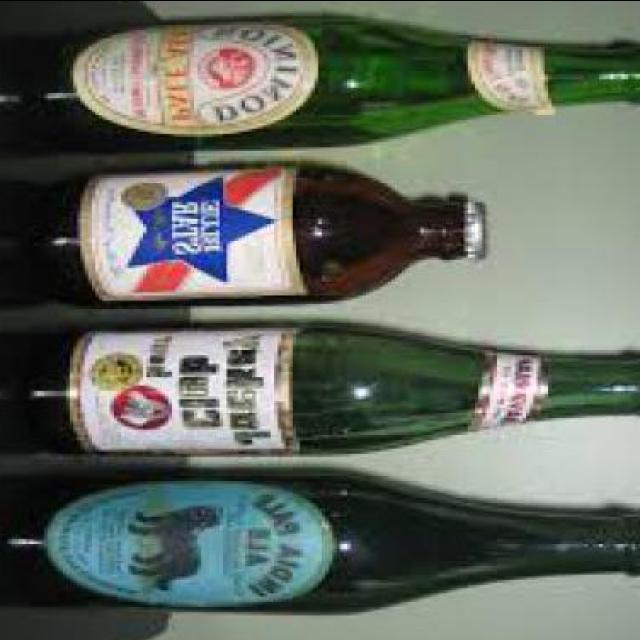kaca: (9, 477, 640, 615), (41, 18, 640, 152), (29, 327, 640, 458), (32, 168, 462, 312)
